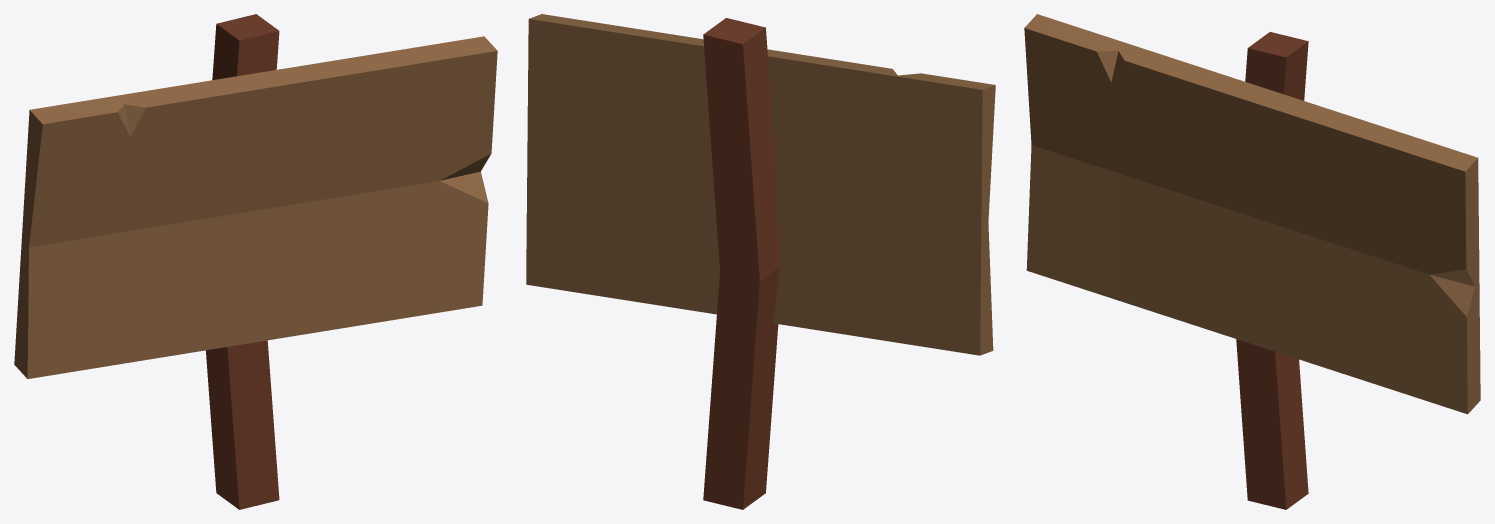
Rendered from LowPolySighn.fbx.
3 views of the same model, side by side, from view 1: azimuth 30°, elevation 25°; view 2: azimuth 150°, elevation 25°; view 3: azimuth 330°, elevation 25° (orthographic). The views are drawn at different scales.
Parts seen in each view (by area): view 1: Sighn; view 2: Sighn; view 3: Sighn.
Boxes of the visible parts, x1,y1,x2,y2 form: Sighn: (14,14,497,509); Sighn: (526,14,995,509); Sighn: (1024,14,1480,509).
Bounding box in the file's own units: 162 × 157 × 24.6.
